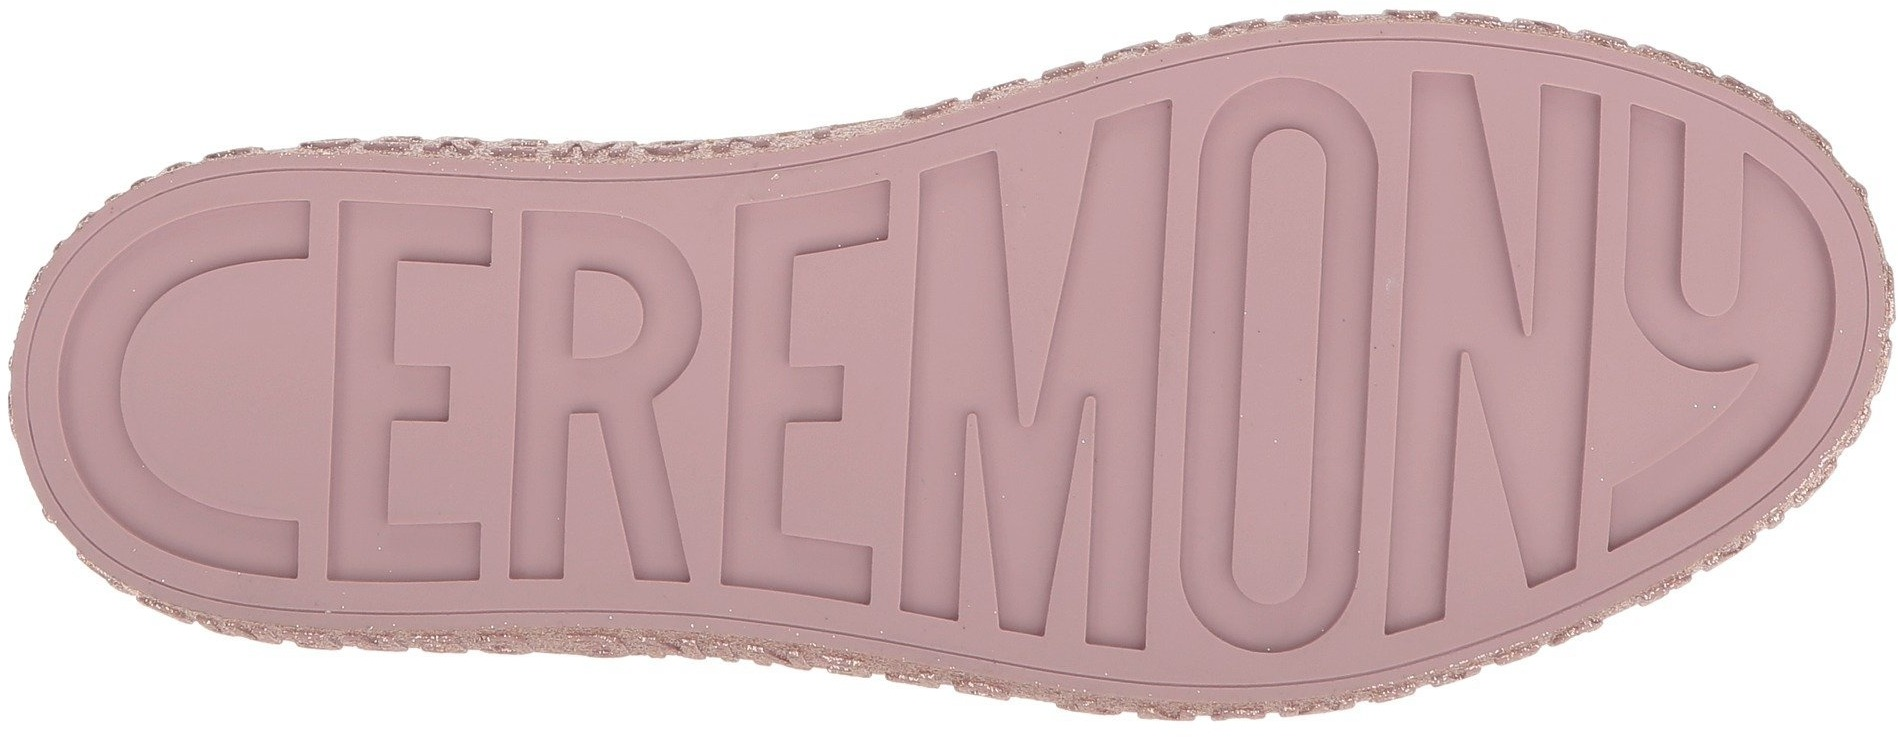quad: (1177, 50, 1392, 674)
text: (1405, 54, 1873, 653), (937, 150, 1404, 576), (315, 175, 726, 608), (531, 219, 927, 568), (1177, 50, 1392, 674), (113, 237, 507, 545), (1416, 133, 1760, 470)
